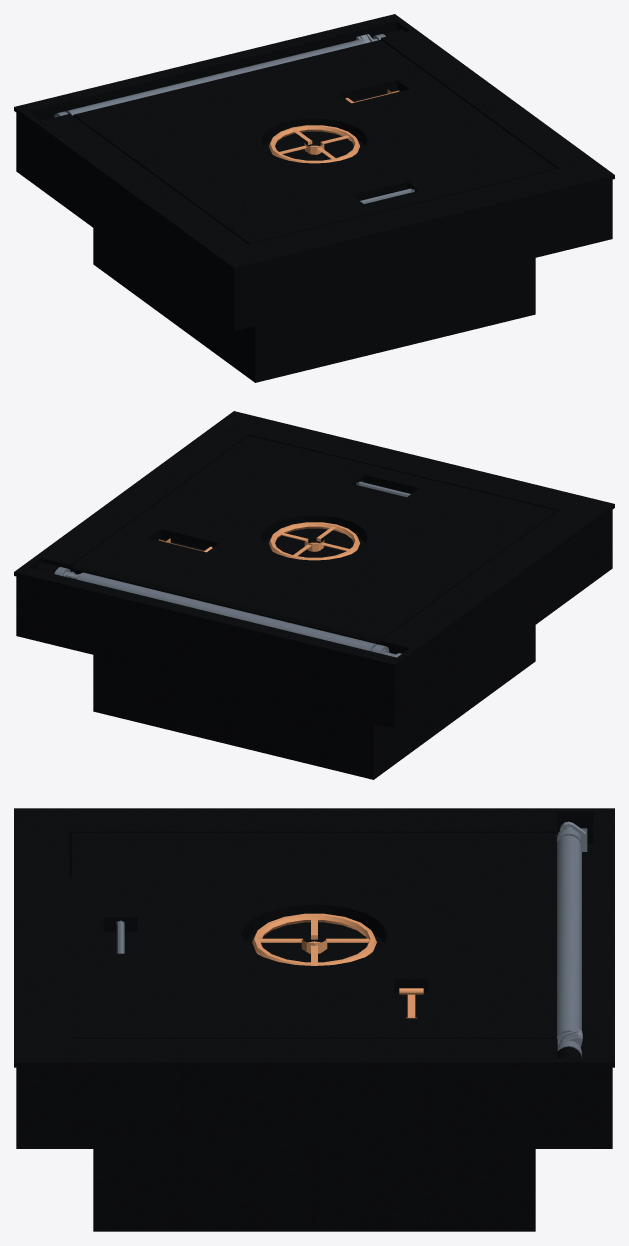
Rendered from door_lab_floor_hatch.glb.
3 views of the same model, one above another, from view 1: azimuth 30°, elevation 25°; view 2: azimuth 150°, elevation 25°; view 3: azimuth 270°, elevation 25° (orthographic). The views are drawn at different scales.
Parts seen in each view (by area): view 1: hatch_frame, hatch_leaf_shell, hatch_HingeTube, hatch_OverrideOrange_Handwheel; view 2: hatch_frame, hatch_leaf_shell, hatch_HingeTube, hatch_OverrideOrange_Handwheel; view 3: hatch_frame, hatch_leaf_shell, hatch_HingeTube, hatch_OverrideOrange_Handwheel.
Boxes of the visible parts, x1,y1,x2,y2 form: hatch_frame: (14,14,614,382); hatch_leaf_shell: (73,39,556,244); hatch_HingeTube: (55,39,363,117); hatch_OverrideOrange_Handwheel: (269,125,359,163); hatch_frame: (14,411,614,779); hatch_leaf_shell: (72,435,556,645); hatch_HingeTube: (78,572,388,654); hatch_OverrideOrange_Handwheel: (269,522,359,560); hatch_frame: (14,808,614,1231); hatch_leaf_shell: (72,833,556,1038); hatch_HingeTube: (557,835,581,1047); hatch_OverrideOrange_Handwheel: (252,913,376,965).
Size of what is drawn, in the model's own units: 1.24 by 0.462 by 1.24.
5 materials, 3 textured.
